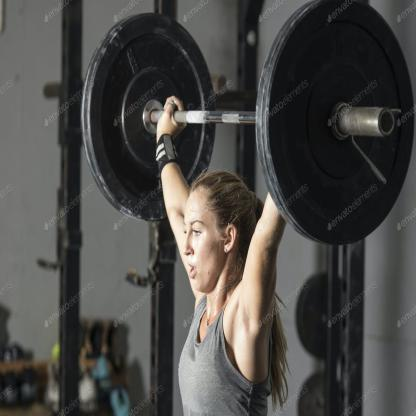Barbell: (254, 0, 415, 252)
